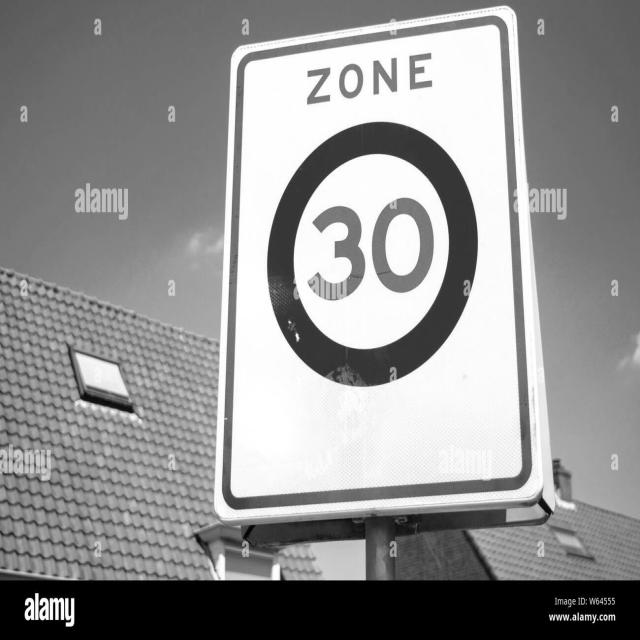speed_30: (221, 6, 545, 522), (266, 120, 478, 392)
